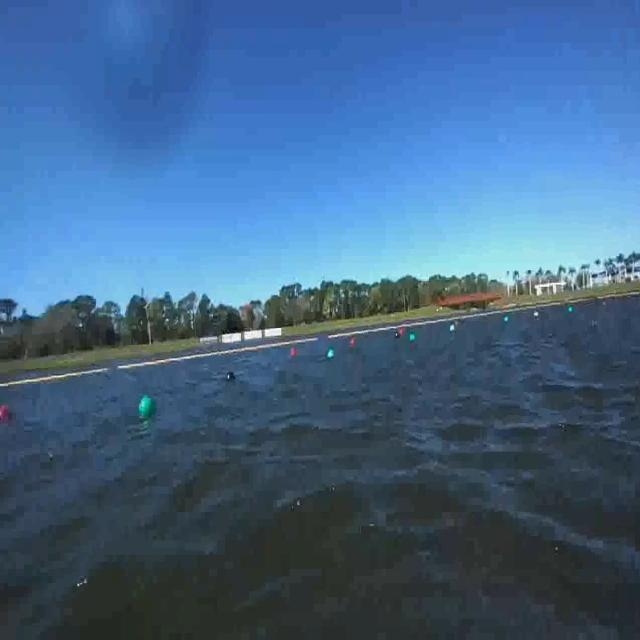black-buoy: (227, 372, 239, 386)
green-buoy: (139, 398, 156, 420)
red-buoy: (0, 398, 14, 434)
